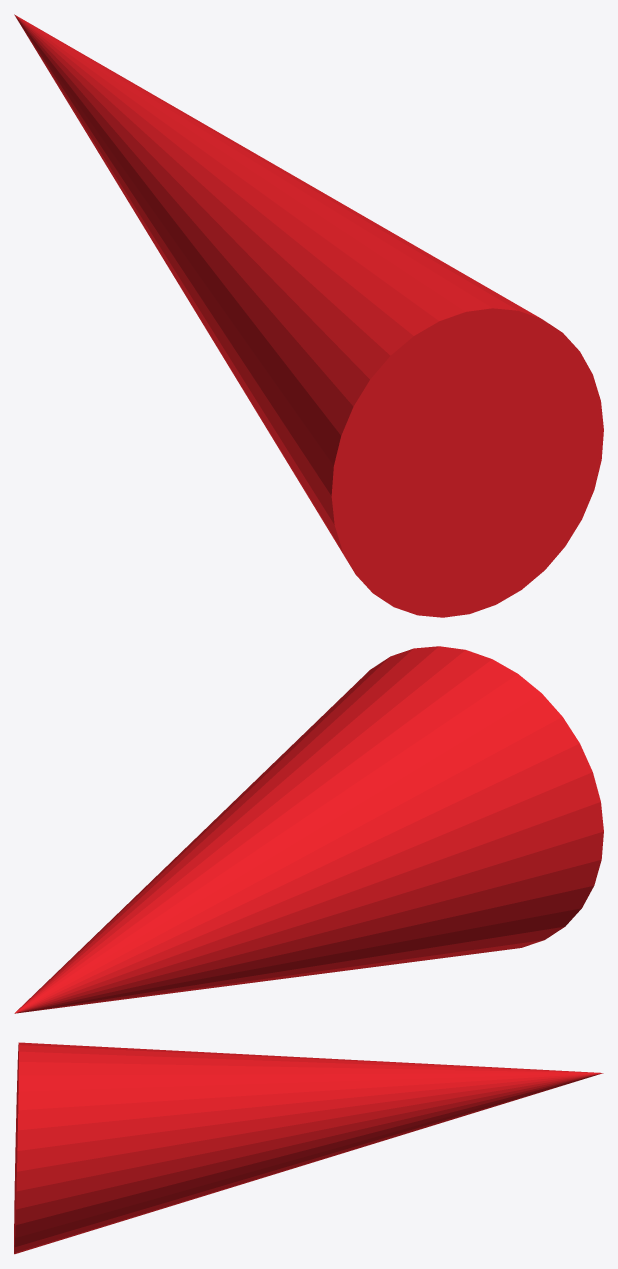
File: red_tail.obj
The picture shows the model from 3 angles, top to bottom: view 1: azimuth 30°, elevation 25°; view 2: azimuth 150°, elevation 25°; view 3: azimuth 270°, elevation 25°; orthographic projection. The views are drawn at different scales.
Visible parts, largest first — view 1: red_tail:Mesh; view 2: red_tail:Mesh; view 3: red_tail:Mesh.
Part boxes in pixels (bbox=[...]): red_tail:Mesh: bbox=[14, 14, 603, 617]; red_tail:Mesh: bbox=[14, 646, 603, 1013]; red_tail:Mesh: bbox=[14, 1042, 603, 1254].
Size of the model in its own units: 0.5811 by 0.6105 by 1.68.
Materials: 1 (1 with a texture image).
